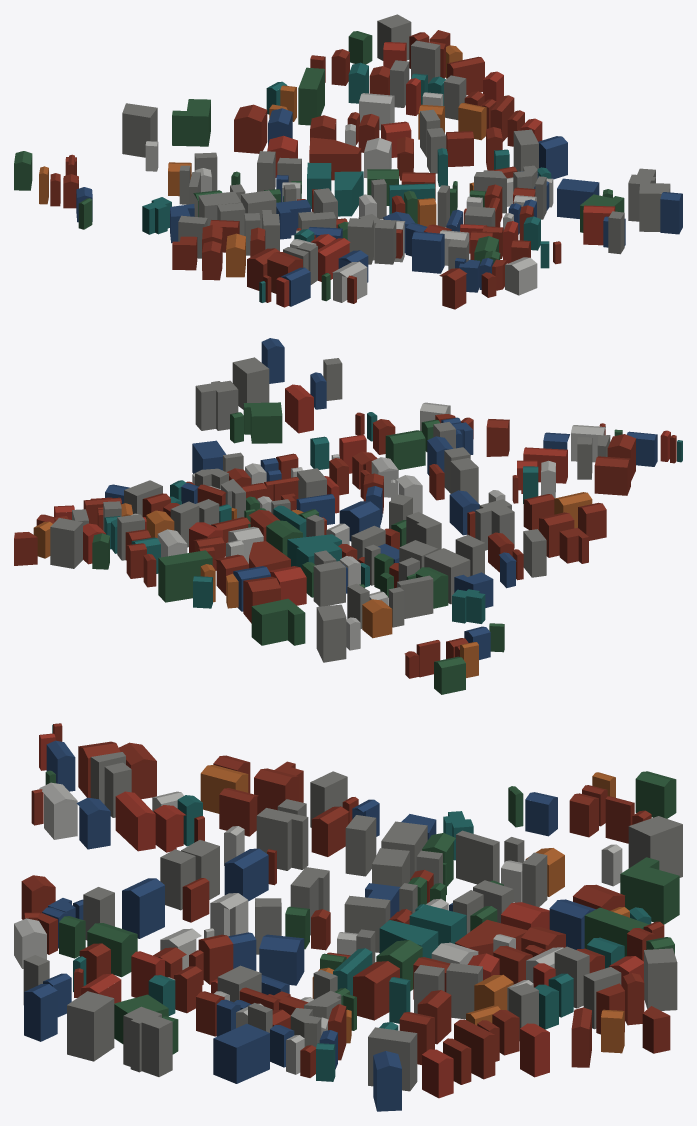
File: near-17-109438-59472.35c29e08.glb
The picture shows the model from 3 angles, top to bottom: view 1: azimuth 30°, elevation 25°; view 2: azimuth 150°, elevation 25°; view 3: azimuth 270°, elevation 25°; orthographic projection. The views are drawn at different scales.
Size of the model in its own units: 308 by 60.2 by 305.
